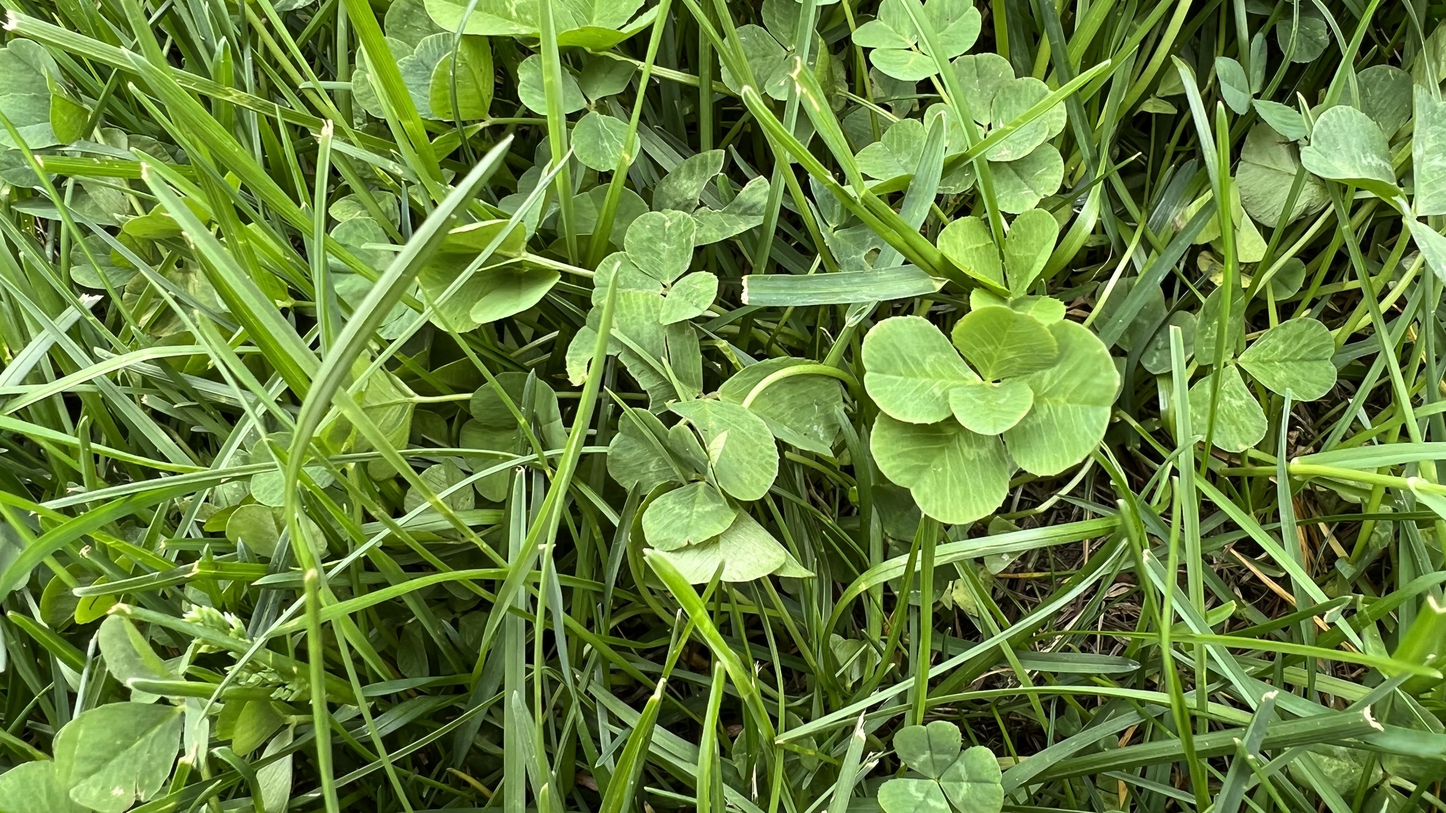5-Leaf-Clovers: (858, 309, 1118, 521)
